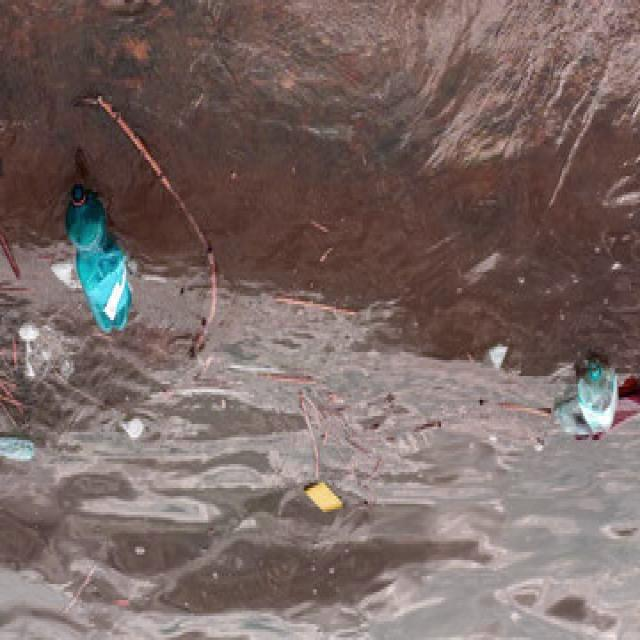Plastic: (62, 178, 132, 342), (577, 360, 617, 442)
Trash: (571, 390, 640, 449), (19, 316, 77, 381), (305, 475, 344, 517), (0, 427, 37, 468), (114, 416, 151, 444), (484, 337, 515, 368)
